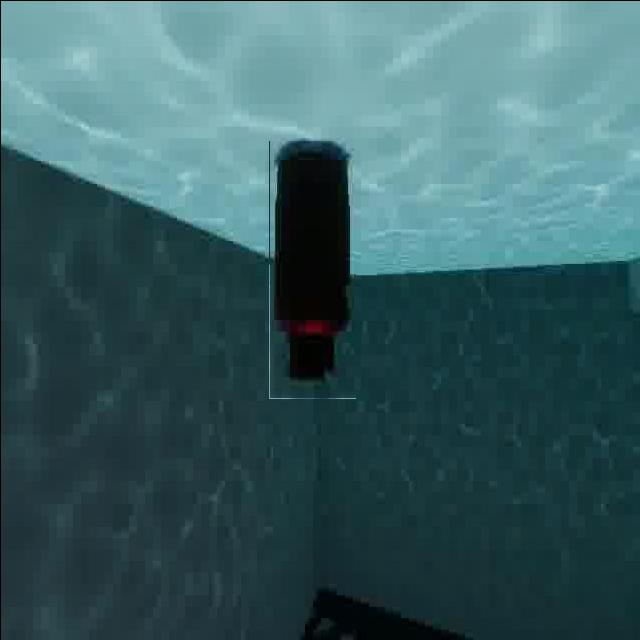Cylinder: (268, 140, 355, 398)
